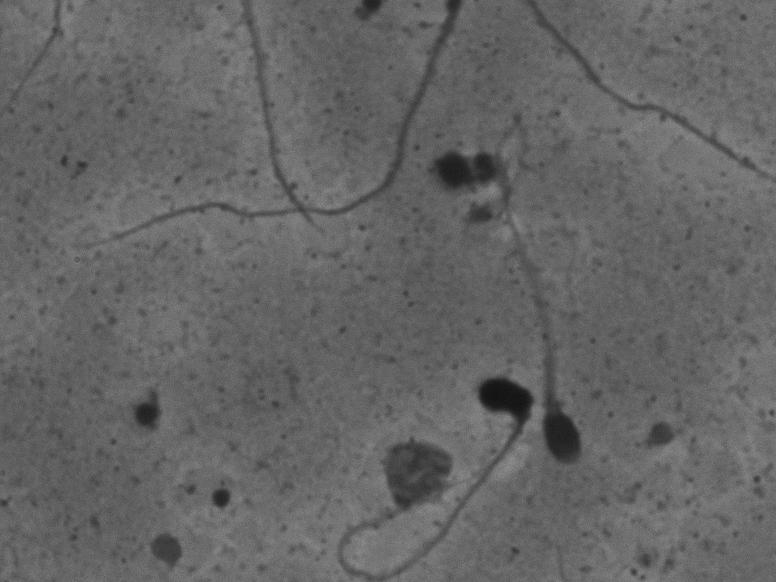Abnormal: (290, 352, 536, 579), (473, 148, 621, 491)
